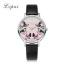watch: (17, 13, 49, 46)
